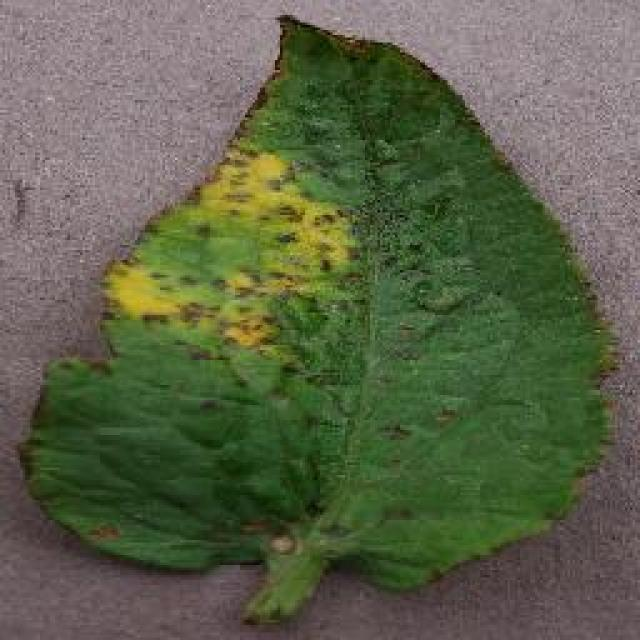Tomato bacterial spot leaf: (19, 5, 624, 595)
